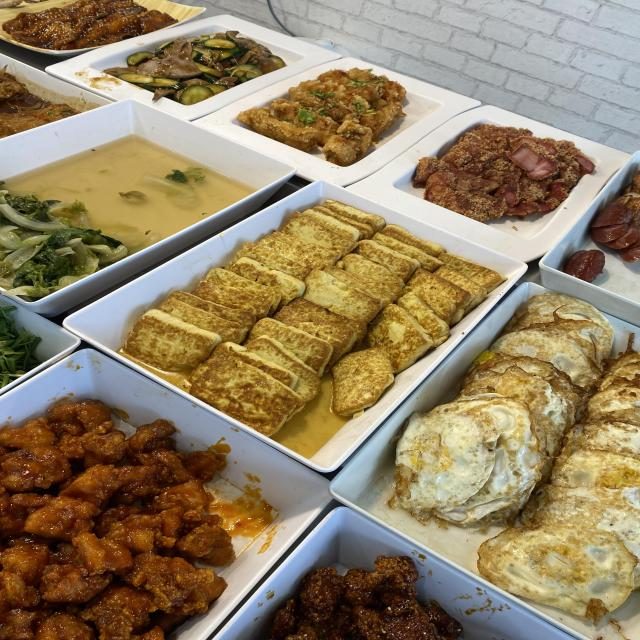Pan Fried Tofu: (221, 242, 414, 381)
